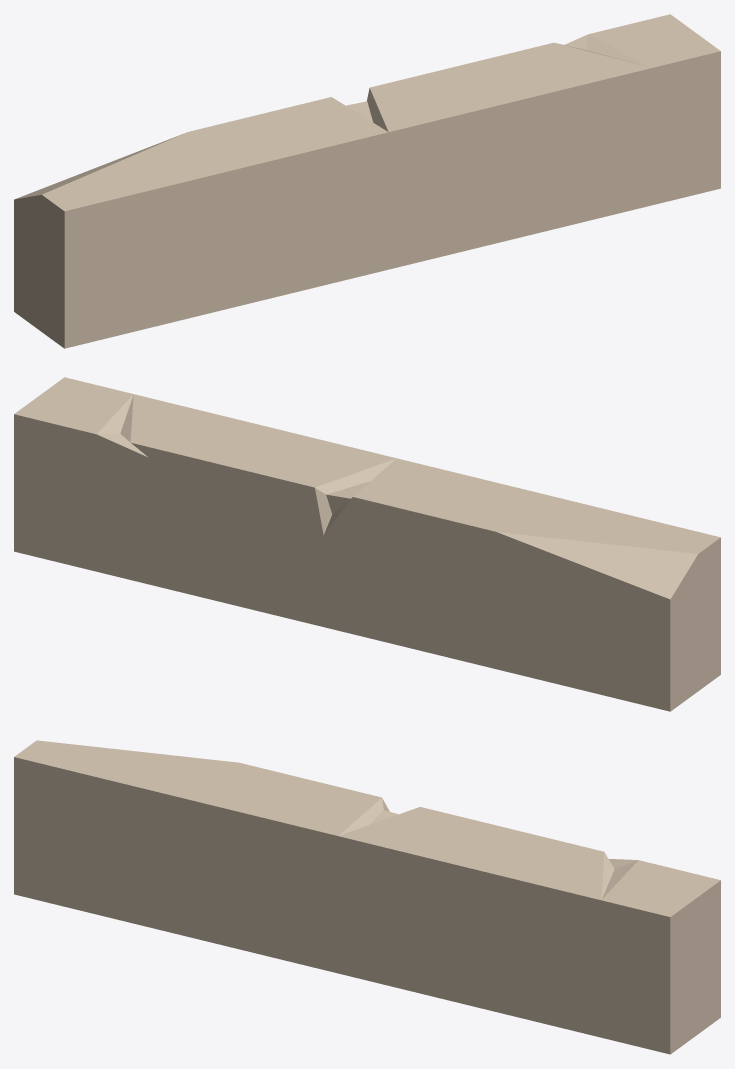
The model's file is Ceiling_Border_002.fbx.
The picture shows the model from 3 angles, top to bottom: view 1: azimuth 30°, elevation 25°; view 2: azimuth 150°, elevation 25°; view 3: azimuth 330°, elevation 25°; orthographic projection.
Parts seen in each view (by area): view 1: Ceiling_Border_002; view 2: Ceiling_Border_002; view 3: Ceiling_Border_002.
Boxes of the visible parts, bbox=[...] form: Ceiling_Border_002: bbox=[14, 14, 720, 348]; Ceiling_Border_002: bbox=[14, 377, 720, 711]; Ceiling_Border_002: bbox=[14, 740, 720, 1054].
Size of the model in its own units: 3 by 0.6 by 0.4.
